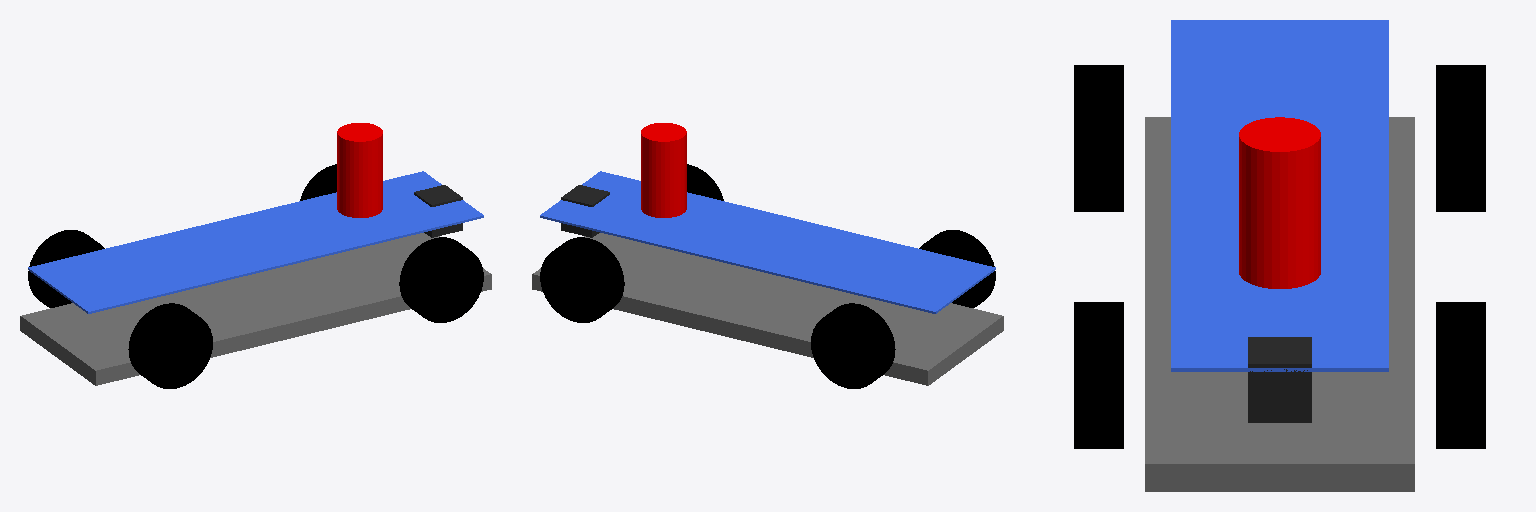
URDF robot description (f1tenth_car):
<?xml version="1.0" ?>
<!-- =================================================================================== -->
<!-- |    This document was autogenerated by xacro from f1tenth_car.urdf.xacro         | -->
<!-- |    EDITING THIS FILE BY HAND IS NOT RECOMMENDED                                 | -->
<!-- =================================================================================== -->
<robot name="f1tenth_car">
  <!-- base do LiDAR -->
  <!-- ===== Novo frame raiz 2D ===== -->
  <link name="base_footprint"/>
  <joint name="base_footprint_to_base_link" type="fixed">
    <parent link="base_footprint"/>
    <child link="base_link"/>
    <origin rpy="0 0 0" xyz="0 0 0"/>
  </joint>
  <!-- Link principal do chassi (base_link) -->
  <link name="base_link">
    <!-- Geometria visual: chassi inferior (base) -->
    <visual>
      <origin rpy="0 0 0" xyz="0 0 0.01"/>
      <geometry>
        <box size="0.38 0.125 0.014"/>
      </geometry>
      <material name="Gray">
        <color rgba="0.5 0.5 0.5 1.0"/>
      </material>
    </visual>
    <!-- Geometria visual: chassi superior (placa superior) -->
    <visual>
      <origin rpy="0 0 0" xyz="0 0 0.065"/>
      <geometry>
        <box size="0.38 0.101 0.002"/>
      </geometry>
      <material name="TransparentBlue">
        <color rgba="0.3 0.5 1.0 0.5"/>
      </material>
    </visual>
    <!-- Geometria de colisão (caixa englobante) -->
    <collision>
      <origin rpy="0 0 0" xyz="0 0 0.037500000000000006"/>
      <geometry>
        <box size="0.38 0.125 0.069"/>
      </geometry>
    </collision>
    <!-- Inércia aproximada do chassi (massa ~2 kg) -->
    <inertial>
      <mass value="2.0"/>
      <origin rpy="0 0 0" xyz="0 0 0.0345"/>
      <inertia ixx="0.0034" ixy="0.0" ixz="0.0" iyy="0.025" iyz="0.0" izz="0.027"/>
    </inertial>
  </link>
  <!-- ========== MANGAS DE EIXO (esterço dianteiro) ========== -->
  <link name="steer_front_left_link">
    <inertial>
      <mass value="0.02"/>
      <origin xyz="0 0 0"/>
      <inertia ixx="1e-4" ixy="0" ixz="0" iyy="1e-4" iyz="0" izz="1e-4"/>
    </inertial>
  </link>
  <joint name="joint_steer_front_left" type="revolute">
    <parent link="base_link"/>
    <child link="steer_front_left_link"/>
    <origin rpy="0 0 0" xyz="0.13 0.0835 0.034"/>
    <axis xyz="0 0 1"/>
    <limit effort="5.0" lower="-0.7" upper="0.7" velocity="2.0"/>
  </joint>
  <link name="steer_front_right_link">
    <inertial>
      <mass value="0.02"/>
      <origin xyz="0 0 0"/>
      <inertia ixx="1e-4" ixy="0" ixz="0" iyy="1e-4" iyz="0" izz="1e-4"/>
    </inertial>
  </link>
  <joint name="joint_steer_front_right" type="revolute">
    <parent link="base_link"/>
    <child link="steer_front_right_link"/>
    <origin rpy="0 0 0" xyz="0.13 -0.0835 0.034"/>
    <axis xyz="0 0 1"/>
    <limit effort="5.0" lower="-0.7" upper="0.7" velocity="2.0"/>
  </joint>
  <!-- ========== Rodas ========== -->
  <!-- Dianteira Esquerda -->
  <link name="wheel_front_left">
    <visual>
      <origin rpy="1.5708 0 0" xyz="0 0 0"/>
      <geometry>
        <cylinder length="0.023" radius="0.034"/>
      </geometry>
      <material name="Black">
        <color rgba="0.0 0.0 0.0 1.0"/>
      </material>
    </visual>
    <collision>
      <origin rpy="1.5708 0 0" xyz="0 0 0"/>
      <geometry>
        <cylinder length="0.023" radius="0.034"/>
      </geometry>
    </collision>
    <inertial>
      <mass value="0.05"/>
      <origin rpy="0 0 0" xyz="0 0 0"/>
      <inertia ixx="1e-4" ixy="0" ixz="0" iyy="1e-4" iyz="0" izz="1e-4"/>
    </inertial>
  </link>
  <joint name="joint_wheel_front_left" type="continuous">
    <parent link="steer_front_left_link"/>
    <child link="wheel_front_left"/>
    <origin rpy="0 0 0" xyz="0 0 0"/>
    <axis xyz="0 1 0"/>
  </joint>
  <!-- Dianteira Direita -->
  <link name="wheel_front_right">
    <visual>
      <origin rpy="1.5708 0 0" xyz="0 0 0"/>
      <geometry>
        <cylinder length="0.023" radius="0.034"/>
      </geometry>
      <material name="Black"/>
    </visual>
    <collision>
      <origin rpy="1.5708 0 0" xyz="0 0 0"/>
      <geometry>
        <cylinder length="0.023" radius="0.034"/>
      </geometry>
    </collision>
    <inertial>
      <mass value="0.05"/>
      <origin rpy="0 0 0" xyz="0 0 0"/>
      <inertia ixx="1e-4" ixy="0" ixz="0" iyy="1e-4" iyz="0" izz="1e-4"/>
    </inertial>
  </link>
  <joint name="joint_wheel_front_right" type="continuous">
    <parent link="steer_front_right_link"/>
    <child link="wheel_front_right"/>
    <origin rpy="0 0 0" xyz="0 0 0"/>
    <axis xyz="0 1 0"/>
  </joint>
  <!-- Traseira Esquerda -->
  <link name="wheel_rear_left">
    <visual>
      <origin rpy="1.5708 0 0" xyz="0 0 0"/>
      <geometry>
        <cylinder length="0.023" radius="0.034"/>
      </geometry>
      <material name="Black"/>
    </visual>
    <collision>
      <origin rpy="1.5708 0 0" xyz="0 0 0"/>
      <geometry>
        <cylinder length="0.023" radius="0.034"/>
      </geometry>
    </collision>
    <inertial>
      <mass value="0.05"/>
      <origin rpy="0 0 0" xyz="0 0 0"/>
      <inertia ixx="1e-4" ixy="0" ixz="0" iyy="1e-4" iyz="0" izz="1e-4"/>
    </inertial>
  </link>
  <joint name="joint_wheel_rear_left" type="continuous">
    <parent link="base_link"/>
    <child link="wheel_rear_left"/>
    <origin rpy="0 0 0" xyz="-0.13 0.0835 0.034"/>
    <axis xyz="0 1 0"/>
  </joint>
  <!-- Traseira Direita -->
  <link name="wheel_rear_right">
    <visual>
      <origin rpy="1.5708 0 0" xyz="0 0 0"/>
      <geometry>
        <cylinder length="0.023" radius="0.034"/>
      </geometry>
      <material name="Black"/>
    </visual>
    <collision>
      <origin rpy="1.5708 0 0" xyz="0 0 0"/>
      <geometry>
        <cylinder length="0.023" radius="0.034"/>
      </geometry>
    </collision>
    <inertial>
      <mass value="0.05"/>
      <origin rpy="0 0 0" xyz="0 0 0"/>
      <inertia ixx="1e-4" ixy="0" ixz="0" iyy="1e-4" iyz="0" izz="1e-4"/>
    </inertial>
  </link>
  <joint name="joint_wheel_rear_right" type="continuous">
    <parent link="base_link"/>
    <child link="wheel_rear_right"/>
    <origin rpy="0 0 0" xyz="-0.13 -0.0835 0.034"/>
    <axis xyz="0 1 0"/>
  </joint>
  <!-- ======== ATRITO / CONTATO (Tração) ======== -->
  <gazebo reference="wheel_front_left">
    <mu1>1.5</mu1>
    <mu2>1.5</mu2>
    <kp>1e6</kp>
    <kd>10.0</kd>
    <minDepth>0.001</minDepth>
  </gazebo>
  <gazebo reference="wheel_front_right">
    <mu1>1.5</mu1>
    <mu2>1.5</mu2>
    <kp>1e6</kp>
    <kd>10.0</kd>
    <minDepth>0.001</minDepth>
  </gazebo>
  <gazebo reference="wheel_rear_left">
    <mu1>1.5</mu1>
    <mu2>1.5</mu2>
    <kp>1e6</kp>
    <kd>10.0</kd>
    <minDepth>0.001</minDepth>
  </gazebo>
  <gazebo reference="wheel_rear_right">
    <mu1>1.5</mu1>
    <mu2>1.5</mu2>
    <kp>1e6</kp>
    <kd>10.0</kd>
    <minDepth>0.001</minDepth>
  </gazebo>
  <!-- GAZEBO PLUGINS FOR THE SIMULATION -->
  <!-- Link do LiDAR -->
  <link name="laser_link">
    <visual>
      <origin rpy="0 0 0" xyz="0 0 0.035"/>
      <geometry>
        <cylinder length="0.07" radius="0.019"/>
      </geometry>
      <material name="Red">
        <color rgba="1.0 0.0 0.0 1.0"/>
      </material>
    </visual>
    <collision>
      <origin rpy="0 0 0" xyz="0 0 0.035"/>
      <geometry>
        <cylinder length="0.07" radius="0.019"/>
      </geometry>
    </collision>
    <inertial>
      <mass value="0.1"/>
      <origin rpy="0 0 0" xyz="0 0 0.035"/>
      <inertia ixx="1e-4" ixy="0" ixz="0" iyy="1e-4" iyz="0" izz="1e-4"/>
    </inertial>
  </link>
  <joint name="joint_laser" type="fixed">
    <parent link="base_link"/>
    <child link="laser_link"/>
    <origin rpy="0 0 0" xyz="0.1 0 0.073"/>
  </joint>
  <!-- Link da IMU -->
  <link name="imu_link">
    <inertial>
      <mass value="0.01"/>
      <origin rpy="0 0 0" xyz="0 0 0"/>
      <inertia ixx="1e-5" ixy="0" ixz="0" iyy="1e-5" iyz="0" izz="1e-5"/>
    </inertial>
  </link>
  <joint name="joint_imu" type="fixed">
    <parent link="base_link"/>
    <child link="imu_link"/>
    <origin rpy="0 0 0" xyz="0 0 0.0345"/>
  </joint>
  <!-- ========== RGB-D CAMERA (para RTAB-MAP) ========== -->
  <link name="front_camera_link">
    <visual>
      <origin rpy="0 0 0" xyz="0 0 0"/>
      <geometry>
        <box size="0.03 0.03 0.03"/>
      </geometry>
      <material name="DarkGray">
        <color rgba="0.2 0.2 0.2 1.0"/>
      </material>
    </visual>
    <inertial>
      <mass value="0.02"/>
      <origin rpy="0 0 0" xyz="0 0 0"/>
      <inertia ixx="1e-5" ixy="0" ixz="0" iyy="1e-5" iyz="0" izz="1e-5"/>
    </inertial>
  </link>
  <joint name="joint_front_camera" type="fixed">
    <parent link="base_link"/>
    <child link="front_camera_link"/>
    <!-- Movida mais à frente do LIDAR -->
    <origin rpy="0 0 0" xyz="0.175 0 0.05299999999999999"/>
  </joint>
  <!-- ======== GAZEBO: SENSOR LiDAR NO laser_link (publica /scan) ======== -->
  <gazebo reference="laser_link">
    <sensor name="lidar_sensor" type="ray">
      <always_on>true</always_on>
      <update_rate>20</update_rate>
      <visualize>false</visualize>
      <ray>
        <scan>
          <horizontal>
            <samples>720</samples>
            <resolution>1</resolution>
            <min_angle>-3.14159</min_angle>
            <max_angle> 3.14159</max_angle>
          </horizontal>
        </scan>
        <range>
          <min>0.05</min>
          <max>30.0</max>
          <resolution>0.01</resolution>
        </range>
        <noise>
          <type>gaussian</type>
          <mean>0.0</mean>
          <stddev>0.01</stddev>
        </noise>
      </ray>
      <plugin filename="libgazebo_ros_ray_sensor.so" name="gazebo_ros_laser">
        <ros>
          <remapping>~/out:=/scan</remapping>
        </ros>
        <output_type>sensor_msgs/LaserScan</output_type>
        <frame_name>laser_link</frame_name>
      </plugin>
    </sensor>
  </gazebo>
  <!-- ======== GAZEBO: SENSOR IMU NO imu_link ======== -->
  <gazebo reference="imu_link">
    <sensor name="imu_sensor" type="imu">
      <always_on>true</always_on>
      <update_rate>100</update_rate>
      <visualize>false</visualize>
      <plugin filename="libgazebo_ros_imu_sensor.so" name="imu_plugin">
        <ros>
          <remapping>~/out:=/imu/data</remapping>
        </ros>
        <frame_name>imu_link</frame_name>
      </plugin>
      <imu>
        <angular_velocity>
          <x>
            <noise type="gaussian">
              <mean>0.0</mean>
              <stddev>0.001</stddev>
              <bias_mean>0.0</bias_mean>
              <bias_stddev>0.0002</bias_stddev>
            </noise>
          </x>
          <y>
            <noise type="gaussian">
              <mean>0.0</mean>
              <stddev>0.001</stddev>
              <bias_mean>0.0</bias_mean>
              <bias_stddev>0.0002</bias_stddev>
            </noise>
          </y>
          <z>
            <noise type="gaussian">
              <mean>0.0</mean>
              <stddev>0.001</stddev>
              <bias_mean>0.0</bias_mean>
              <bias_stddev>0.0002</bias_stddev>
            </noise>
          </z>
        </angular_velocity>
        <linear_acceleration>
          <x>
            <noise type="gaussian">
              <mean>0.0</mean>
              <stddev>0.1</stddev>
              <bias_mean>0.0</bias_mean>
              <bias_stddev>0.02</bias_stddev>
            </noise>
          </x>
          <y>
            <noise type="gaussian">
              <mean>0.0</mean>
              <stddev>0.1</stddev>
              <bias_mean>0.0</bias_mean>
              <bias_stddev>0.02</bias_stddev>
            </noise>
          </y>
          <z>
            <noise type="gaussian">
              <mean>0.0</mean>
              <stddev>0.1</stddev>
              <bias_mean>0.0</bias_mean>
              <bias_stddev>0.02</bias_stddev>
            </noise>
          </z>
        </linear_acceleration>
      </imu>
    </sensor>
  </gazebo>
  <!-- ======== RGB-D CAMERA (Gazebo Classic + ROS 2 Humble) ======== -->
  <gazebo reference="front_camera_link">
    <!-- Câmera RGB -->
    <sensor name="rgb_camera" type="camera">
      <always_on>true</always_on>
      <update_rate>30</update_rate>
      <camera>
        <horizontal_fov>1.047</horizontal_fov>
        <image>
          <width>640</width>
          <height>480</height>
          <format>R8G8B8</format>
        </image>
        <clip>
          <near>0.02</near>
          <far>50.0</far>
        </clip>
      </camera>
      <plugin filename="libgazebo_ros_camera.so" name="rgb_camera_plugin">
        <ros>
          <remapping>~/image_raw:=/camera/rgb/image_raw</remapping>
          <remapping>~/camera_info:=/camera/rgb/camera_info</remapping>
        </ros>
        <frame_name>front_camera_link</frame_name>
      </plugin>
    </sensor>
    <!-- Câmera de profundidade -->
    <sensor name="depth_camera" type="depth">
      <always_on>true</always_on>
      <update_rate>30</update_rate>
      <camera>
        <horizontal_fov>1.047</horizontal_fov>
        <image>
          <width>640</width>
          <height>480</height>
          <format>FLOAT32</format>
        </image>
        <clip>
          <near>0.05</near>
          <far>20.0</far>
        </clip>
      </camera>
      <plugin filename="libgazebo_ros_depth_camera.so" name="depth_camera_plugin">
        <ros>
          <remapping>~/image_raw:=/camera/depth/image_raw</remapping>
          <remapping>~/camera_info:=/camera/depth/camera_info</remapping>
        </ros>
        <frame_name>front_camera_link</frame_name>
      </plugin>
    </sensor>
  </gazebo>
  <!-- ======== Ackermann Drive (usa /cmd_vel) ======== -->
  <gazebo>
    <plugin filename="libgazebo_ros_ackermann_drive.so" name="f1tenth_ackermann">
      <ros>
        <remapping>cmd_vel:=/cmd_vel</remapping>
        <remapping>odom:=/odom</remapping>
      </ros>
      <update_rate>100.0</update_rate>
      <front_left_joint>joint_wheel_front_left</front_left_joint>
      <front_right_joint>joint_wheel_front_right</front_right_joint>
      <rear_left_joint>joint_wheel_rear_left</rear_left_joint>
      <rear_right_joint>joint_wheel_rear_right</rear_right_joint>
      <left_steering_joint>joint_steer_front_left</left_steering_joint>
      <right_steering_joint>joint_steer_front_right</right_steering_joint>
      <max_steer>2.0</max_steer>
      <max_speed>20.0</max_speed>
      <publish_odom>true</publish_odom>
      <publish_odom_tf>true</publish_odom_tf>
      <odometry_frame>odom</odometry_frame>
      <robot_base_frame>base_footprint</robot_base_frame>
    </plugin>
  </gazebo>
  <!-- ============= Plugin custom (DESATIVADO) ============= -->
  <gazebo>
    <plugin filename="libf1tenth_interface_plugin.so" name="f1tenth_interface">
      <steer_fl_joint>joint_steer_front_left</steer_fl_joint>
      <steer_fr_joint>joint_steer_front_right</steer_fr_joint>
      <wheel_rl_joint>joint_wheel_rear_left</wheel_rl_joint>
      <wheel_rr_joint>joint_wheel_rear_right</wheel_rr_joint>
      <steer_topic>/autodrive/f1tenth_1/steering_command</steer_topic>
      <throttle_topic>/autodrive/f1tenth_1/throttle_command</throttle_topic>
      <brake_topic>/autodrive/f1tenth_1/brake_command</brake_topic>
      <k_speed>2.0</k_speed>
      <wheel_radius>0.034</wheel_radius>
      <steer_limit_rad>0.698</steer_limit_rad>
      <wheel_fmax_nm>8.0</wheel_fmax_nm>
      <steer_fmax_nm>2.0</steer_fmax_nm>
    </plugin>
  </gazebo>
</robot>

--- Facts derived from the render (not from the file) ---
Views: 3 orthographic renders of the robot side by side, from view 1: azimuth 30°, elevation 25°; view 2: azimuth 150°, elevation 25°; view 3: azimuth 270°, elevation 25°.
Robot: f1tenth_car — 11 links, 10 joints (2 revolute, 4 continuous, 4 fixed); root link base_footprint; default pose: every joint at zero.
Visible links, largest first — view 1: base_link, wheel_rear_right, wheel_front_right, laser_link, wheel_rear_left, front_camera_link, wheel_front_left; view 2: base_link, wheel_rear_left, wheel_front_left, laser_link, wheel_rear_right, front_camera_link, wheel_front_right; view 3: base_link, laser_link, wheel_front_left, wheel_front_right, wheel_rear_left, wheel_rear_right, front_camera_link.
Link boxes in pixels (x1,y1,x2,y2): base_link: (20, 171, 491, 385); wheel_rear_right: (128, 303, 212, 388); wheel_front_right: (399, 237, 483, 322); laser_link: (337, 123, 382, 217); wheel_rear_left: (28, 230, 104, 307); front_camera_link: (414, 185, 462, 237); wheel_front_left: (300, 164, 336, 200); base_link: (532, 171, 1003, 385); wheel_rear_left: (811, 303, 895, 388); wheel_front_left: (540, 237, 624, 322); laser_link: (641, 123, 686, 217); wheel_rear_right: (919, 230, 995, 307); front_camera_link: (561, 185, 609, 237); wheel_front_right: (687, 164, 723, 200); base_link: (1145, 20, 1414, 491); laser_link: (1239, 117, 1320, 288); wheel_front_left: (1436, 302, 1485, 448); wheel_front_right: (1074, 302, 1123, 448); wheel_rear_left: (1436, 65, 1485, 211); wheel_rear_right: (1074, 65, 1123, 211); front_camera_link: (1248, 337, 1311, 422).
Size in the robot's own frame: 0.38 by 0.19 by 0.143 metres.
Geometry: primitives only (box / cylinder / sphere), no mesh files.
